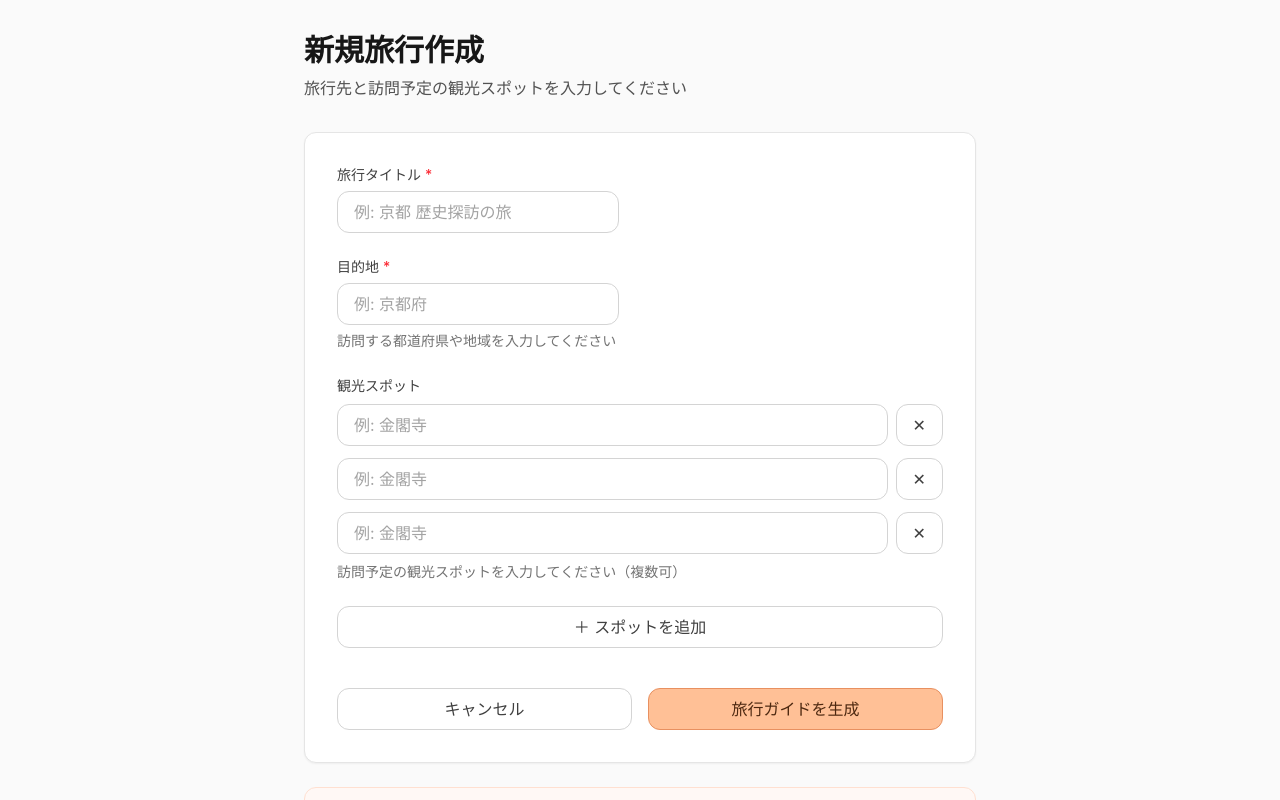
Test case: TravelNewPage › エラー状態 › ガイド生成が失敗した場合もエラーダイアログが表示される
Type "テスト旅行" into the field with placeholder "例: 京都 歴史探訪の旅". click: x=478, y=212
box: [337, 191, 619, 233]
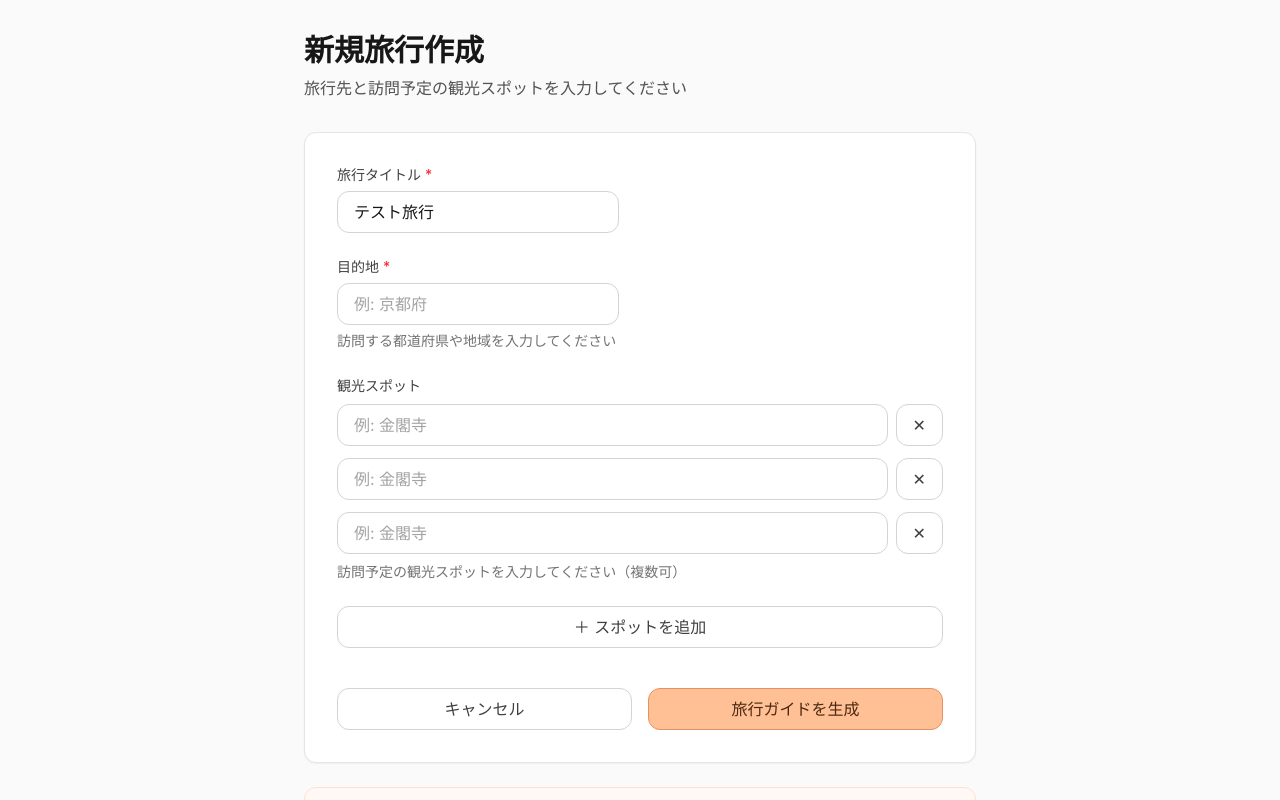
Type "テスト目的地" into the field with placeholder "例: 京都府". click: x=478, y=304
box: [337, 283, 619, 325]
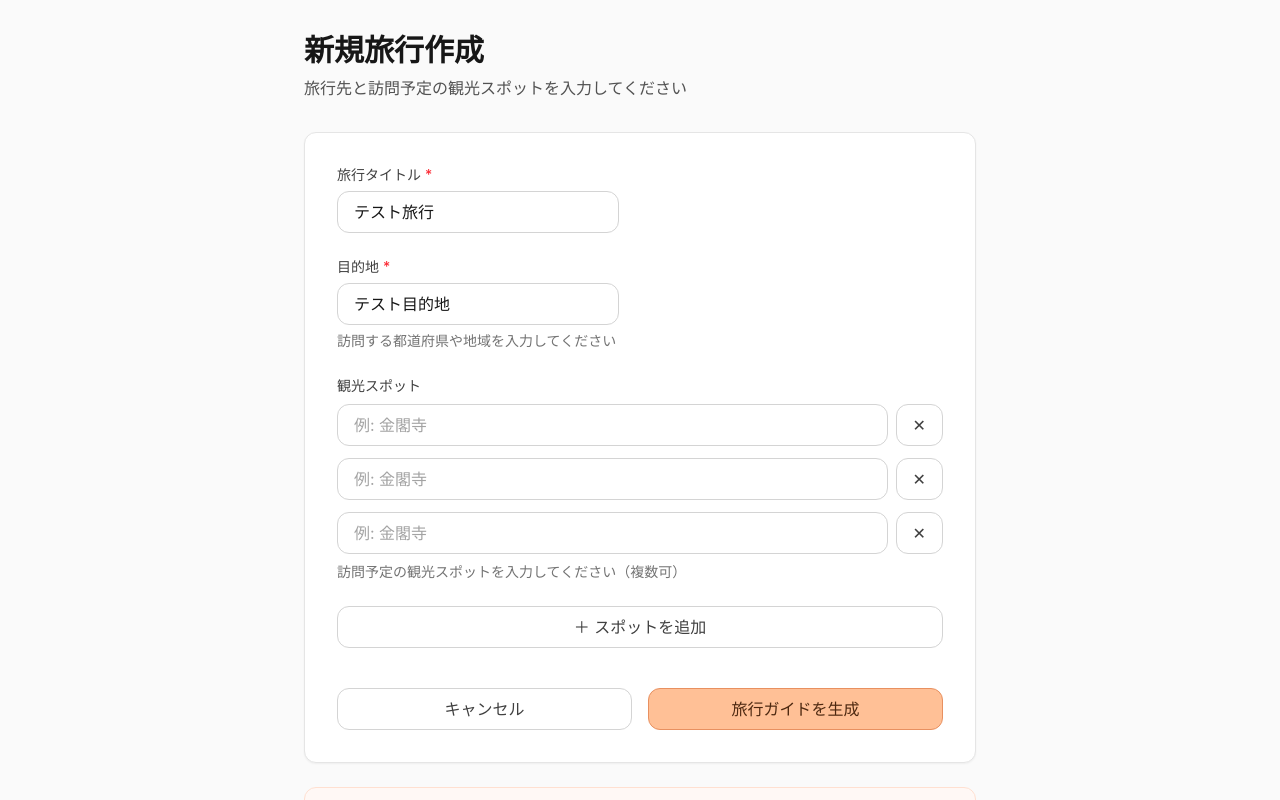
Click the button "旅行ガイドを生成". click: x=796, y=709
box: [648, 688, 943, 730]
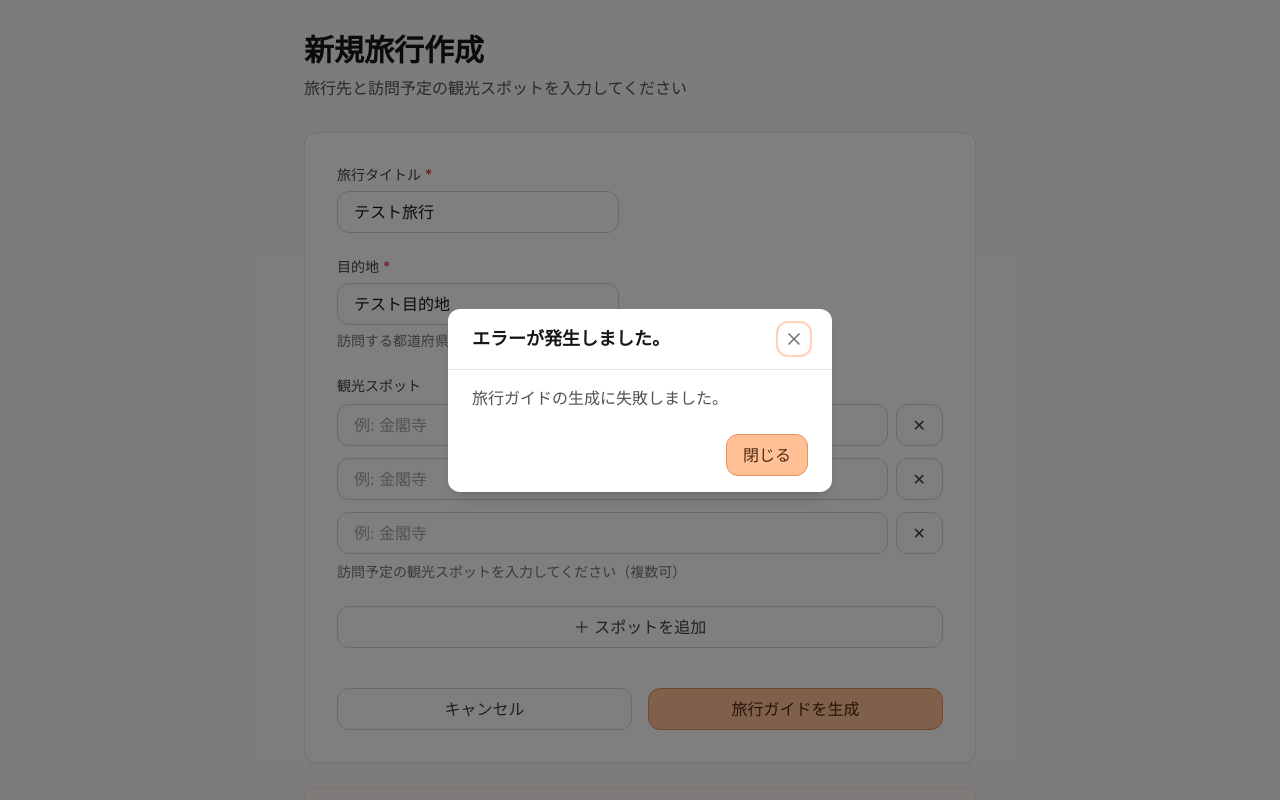
Now the text "旅行ガイドの生成に失敗しました。" is shown, box [472, 388, 728, 408]
